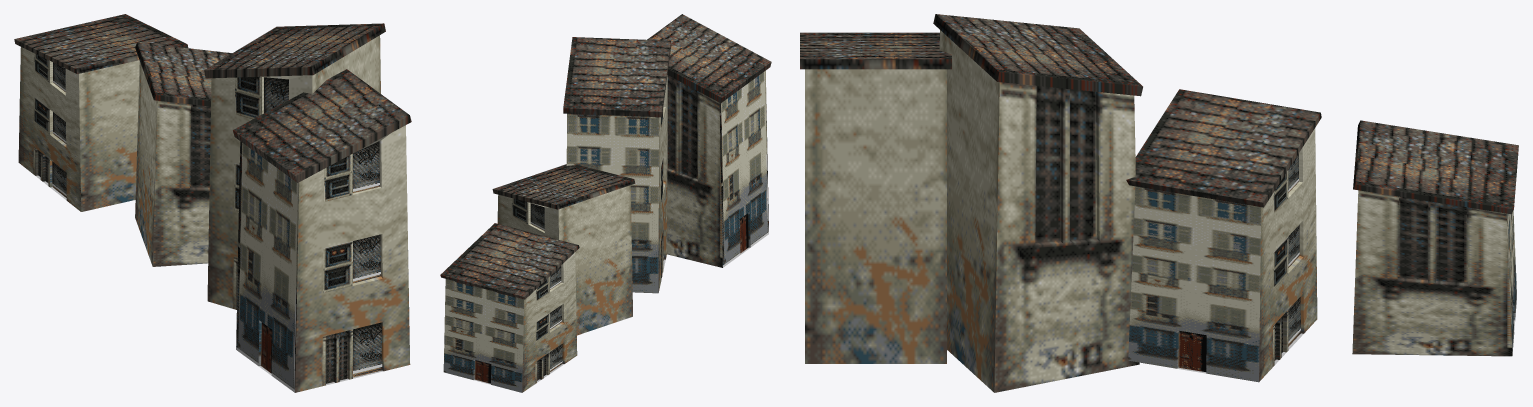
File: buildings.fbx
The picture shows the model from 3 angles, left to right: view 1: azimuth 30°, elevation 25°; view 2: azimuth 150°, elevation 25°; view 3: azimuth 270°, elevation 25°; orthographic projection. The views are drawn at different scales.
Visible parts, largest first — view 1: Cube.444, Cube.500, Cube.493, Cube.494; view 2: Cube.444, Cube.500, Cube.493, Cube.494; view 3: Cube.493, Cube.494, Cube.444, Cube.500.
Boxes of the visible parts, left/top/right/bottom form: Cube.444: left=233, top=69, right=411, bottom=392; Cube.500: left=14, top=14, right=188, bottom=211; Cube.493: left=204, top=23, right=385, bottom=309; Cube.494: left=135, top=42, right=231, bottom=266; Cube.444: left=647, top=14, right=771, bottom=267; Cube.500: left=440, top=223, right=579, bottom=392; Cube.493: left=563, top=37, right=671, bottom=293; Cube.494: left=492, top=164, right=635, bottom=335; Cube.493: left=933, top=14, right=1142, bottom=392; Cube.494: left=1126, top=89, right=1321, bottom=382; Cube.444: left=800, top=32, right=951, bottom=363; Cube.500: left=1352, top=120, right=1518, bottom=356.
Size of the model in its own units: 824 by 1232 by 2477.
